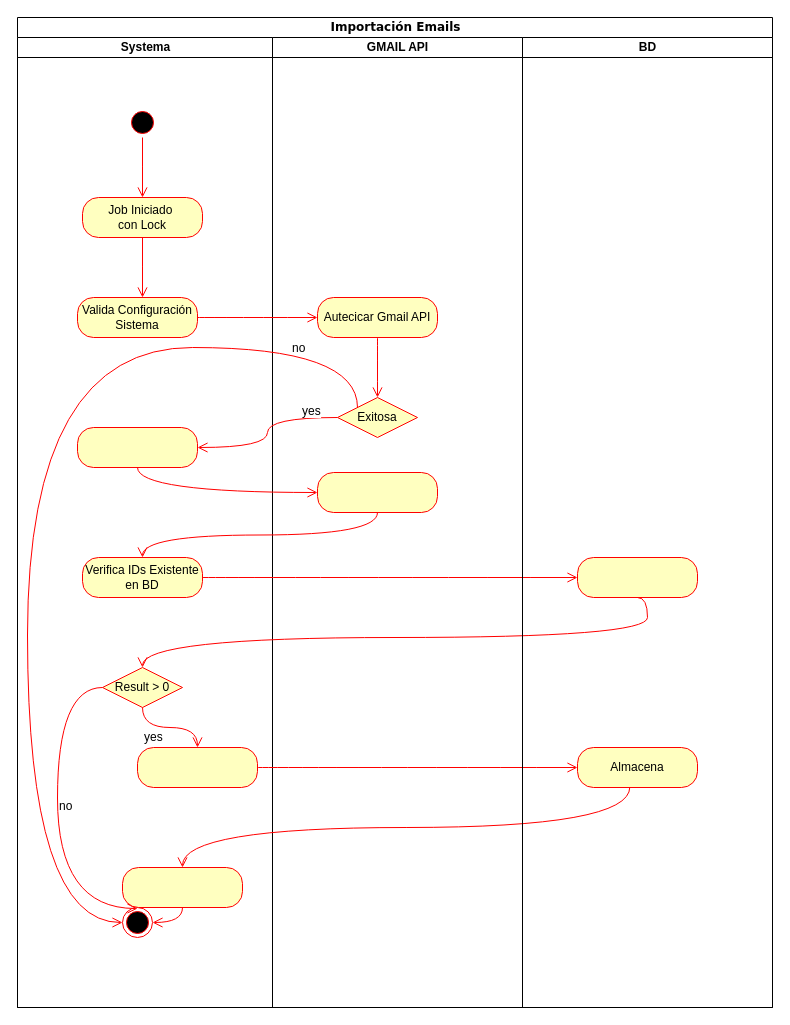
This 790x1025 diagram has some shape labels left out. The shapes that lost their labels are listed below. From the top down, each one's centre as x and y in pixels, then its label:
At (137,447): "Solicita Lista Emails".
At (377,492): "Devuelve Lista".
At (637,577): "Lista id Email que no Existen".
At (197,767): "Importa Emails con detalles".
At (182,887): "Confirma y Proceso finales".
